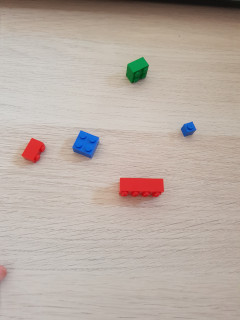1x1 blue: (181, 121, 196, 139)
1x2 red: (22, 138, 47, 164)
2x2 blue: (70, 130, 100, 161)
2x2 green: (127, 57, 150, 84)
2x4 red: (120, 178, 165, 197)
